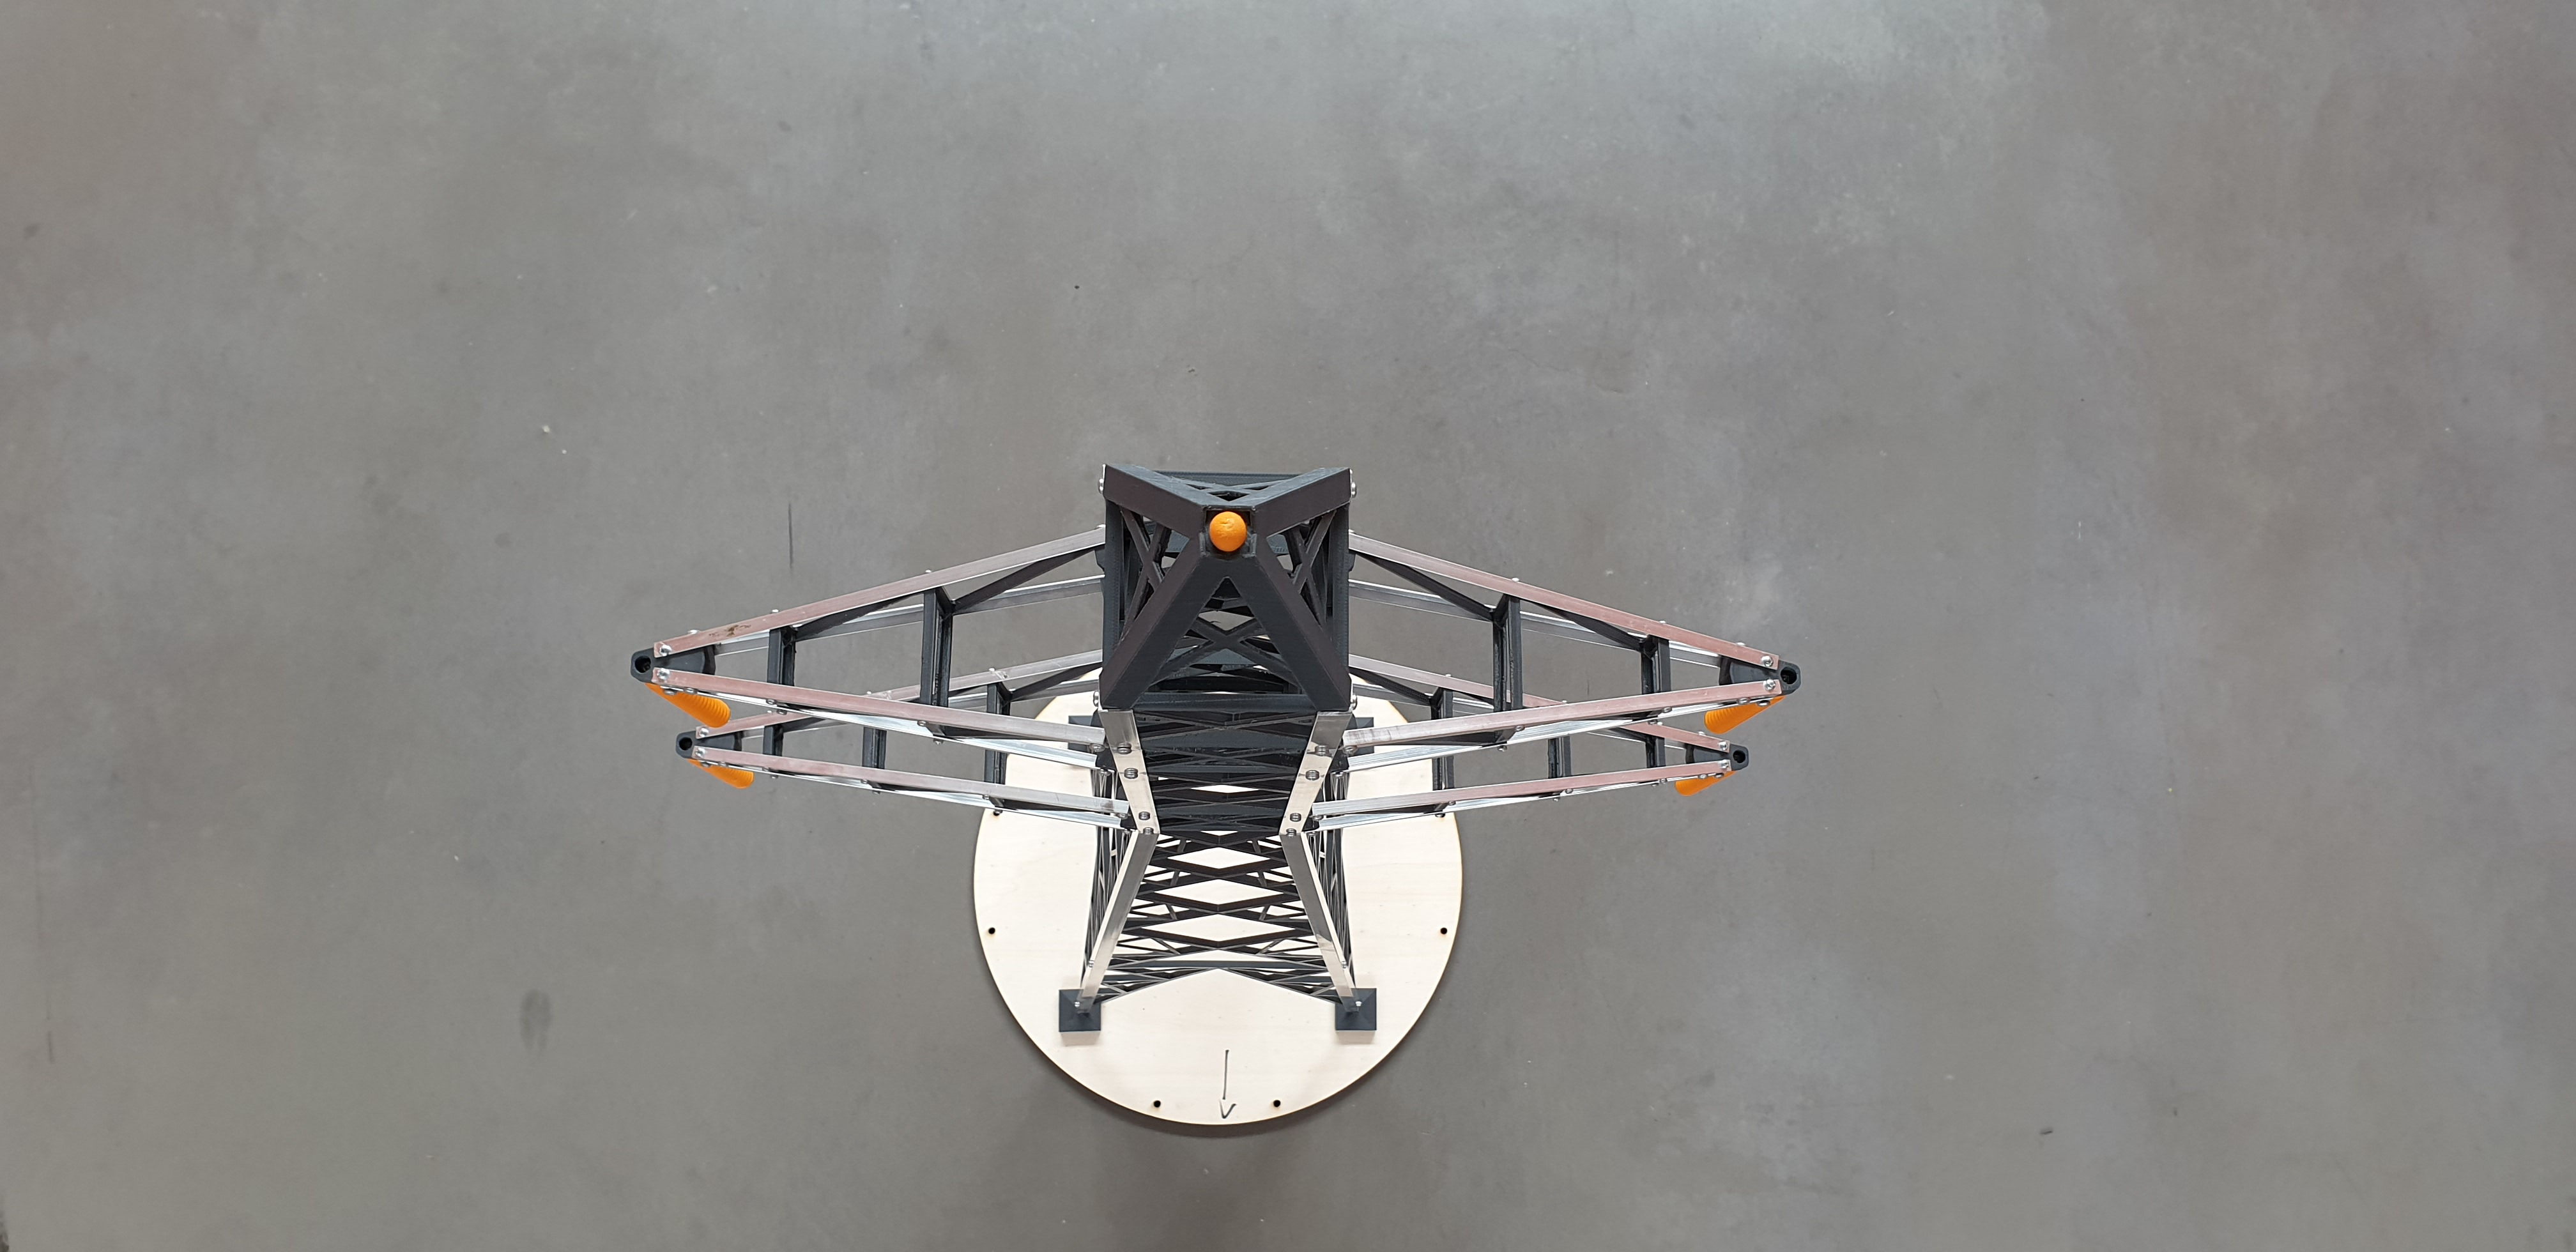pylon_phy: (621, 458, 1805, 772)
